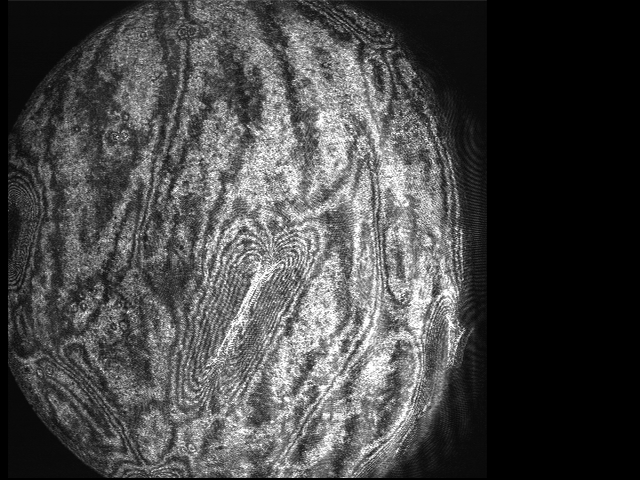plume: (175, 231, 313, 410)
